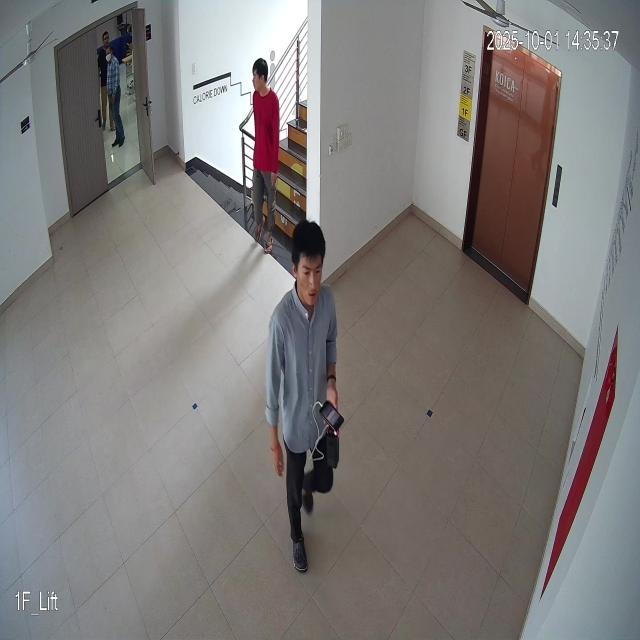face: (290, 213, 327, 309)
